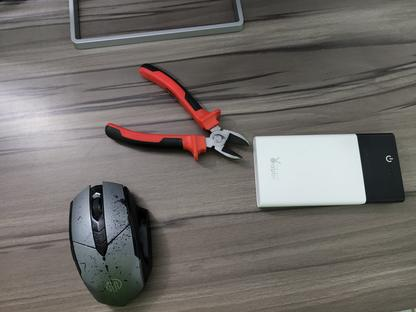mouse: (67, 180, 152, 307)
